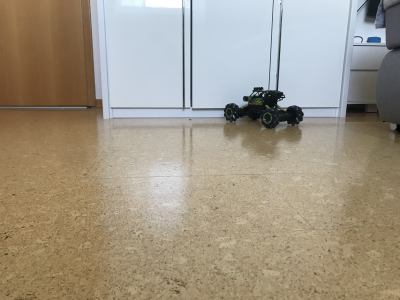remote control car: (221, 84, 306, 130)
